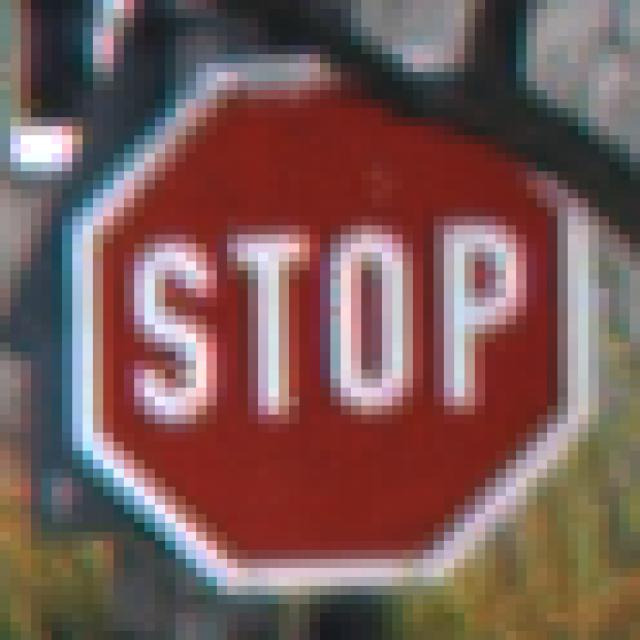STOP: (53, 55, 590, 587)
